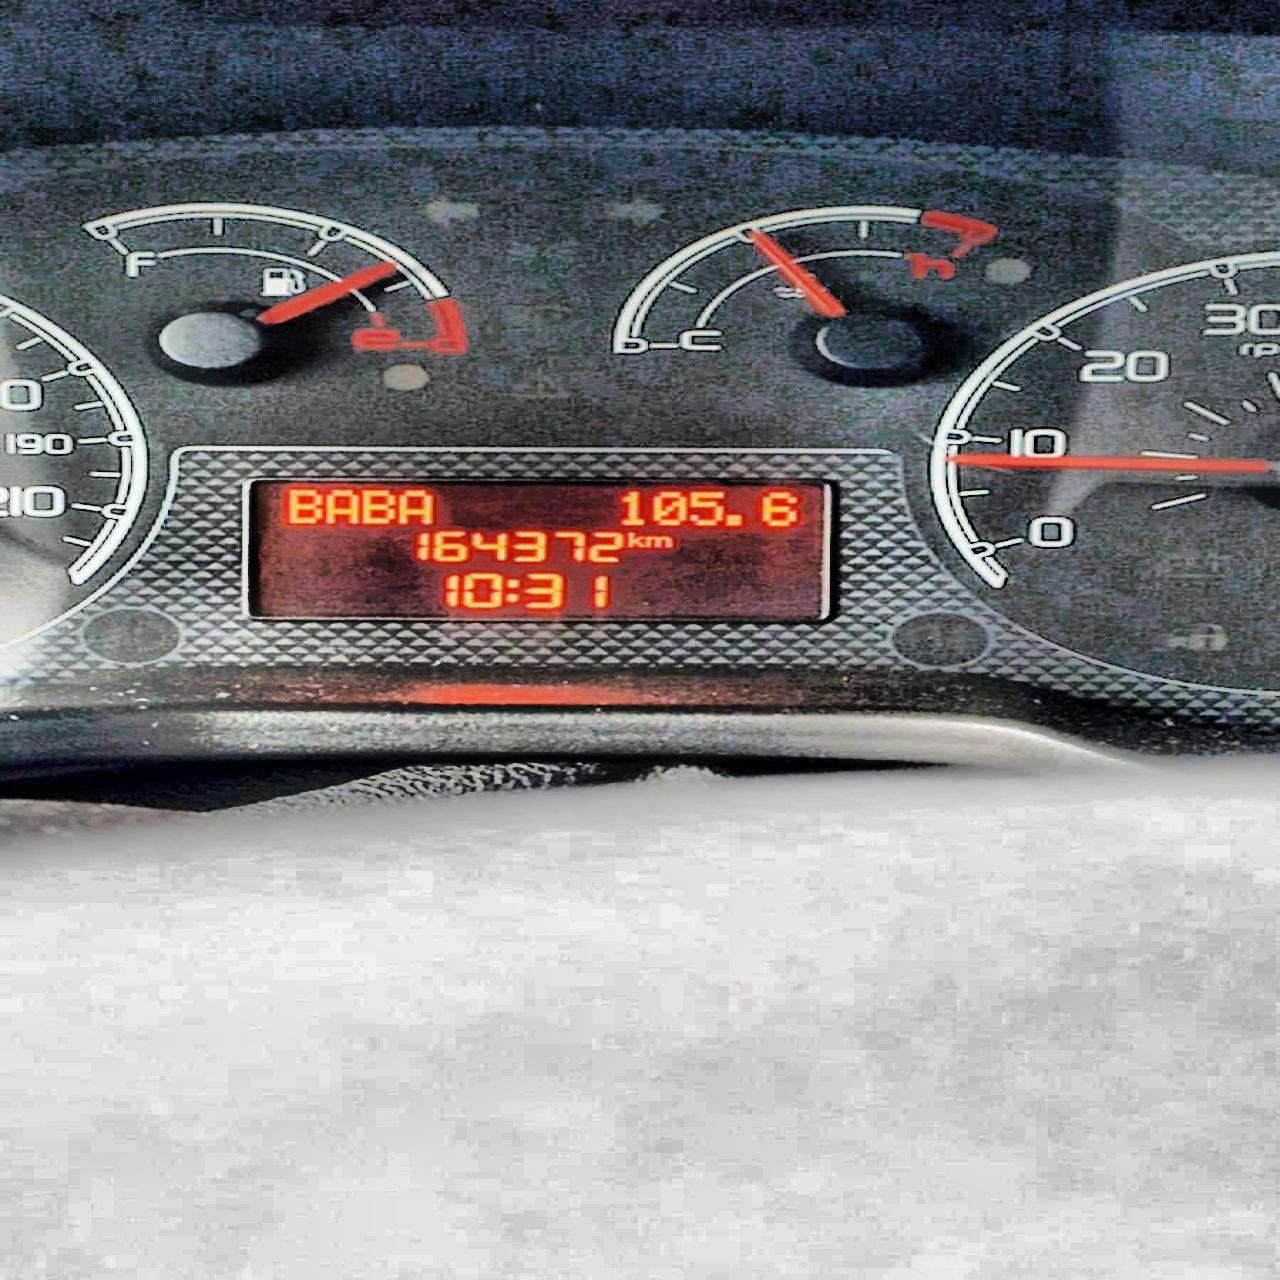-: (723, 511, 744, 527)
0: (462, 571, 499, 610), (649, 489, 687, 526)
1: (617, 489, 645, 527), (590, 572, 611, 611), (442, 572, 458, 611), (416, 529, 430, 565)
2: (587, 530, 619, 563)
3: (524, 572, 563, 610), (510, 530, 546, 561)
4: (470, 532, 505, 561)
5: (688, 489, 724, 527)
6: (758, 489, 801, 529), (431, 530, 469, 564)
7: (554, 530, 584, 564)
X: (286, 486, 321, 525), (396, 486, 431, 524), (361, 488, 395, 524), (325, 489, 358, 524), (644, 533, 673, 547), (504, 577, 520, 601), (625, 530, 644, 549)
odometer: (231, 475, 845, 627)
